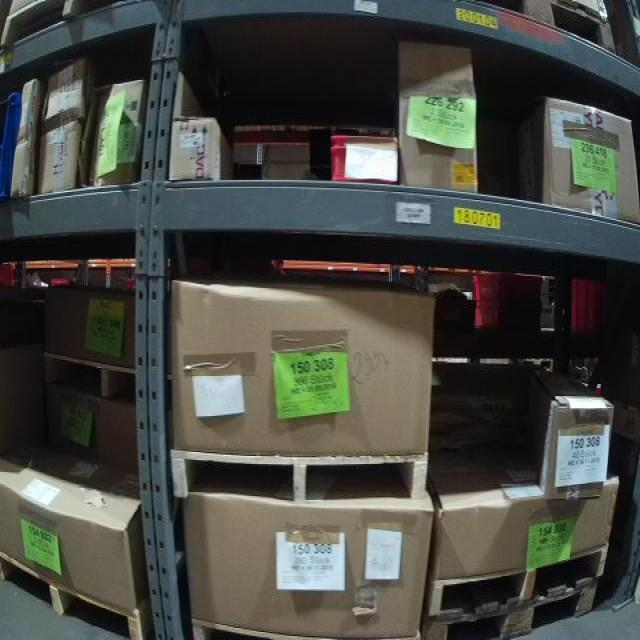pallet: (166, 442, 432, 504), (430, 543, 612, 615), (0, 551, 150, 637), (424, 578, 601, 640), (42, 355, 171, 410), (187, 621, 422, 640)
small_load_carrier: (329, 129, 396, 183), (457, 307, 546, 342), (466, 276, 546, 307)
